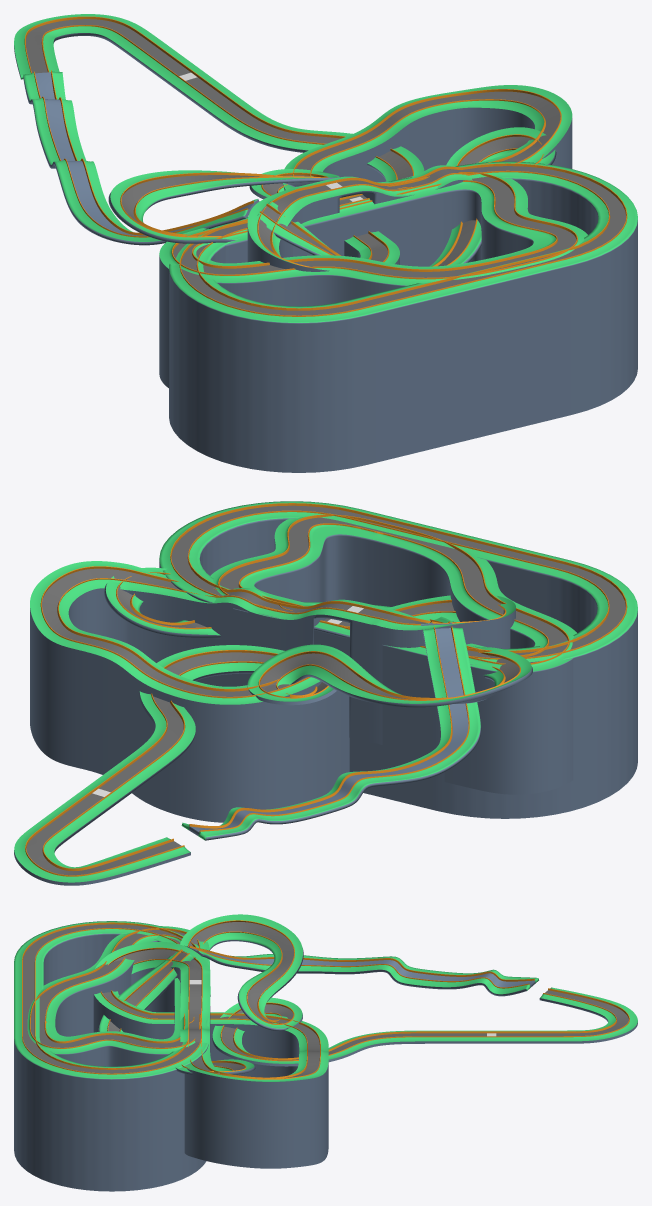
Rendered from Circuits.fbx.
3 views of the same model, one above another, from view 1: azimuth 30°, elevation 25°; view 2: azimuth 150°, elevation 25°; view 3: azimuth 270°, elevation 25° (orthographic). The views are drawn at different scales.
Parts seen in each view (by area): view 1: EasyCircuit, ProCircuit, MediumCitcuit, HardCircuit; view 2: HardCircuit, EasyCircuit, ProCircuit, MediumCitcuit; view 3: EasyCircuit, HardCircuit, ProCircuit, MediumCitcuit.
Boxes of the visible parts, bbox=[...] form: EasyCircuit: bbox=[169, 161, 637, 472]; ProCircuit: bbox=[14, 14, 556, 266]; MediumCitcuit: bbox=[159, 172, 587, 388]; HardCircuit: bbox=[247, 85, 572, 271]; HardCircuit: bbox=[30, 561, 515, 822]; EasyCircuit: bbox=[159, 501, 637, 818]; ProCircuit: bbox=[14, 567, 532, 885]; MediumCitcuit: bbox=[210, 514, 576, 794]; EasyCircuit: bbox=[14, 921, 209, 1191]; HardCircuit: bbox=[93, 942, 328, 1168]; ProCircuit: bbox=[98, 914, 637, 1075]; MediumCitcuit: bbox=[27, 926, 209, 1066].
Size of the model in its own units: 34075 by 11969 by 52511.
